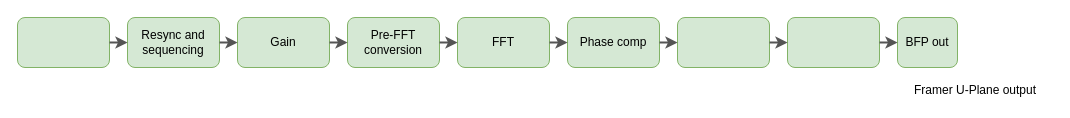
Some shapes in this 1070 by 118 pixel diagram are drawn without their labels. Here are the shapes that lost their labels. From the top down, the centre of each, then its label:
At point (63, 42): "Radio UL".
At point (723, 42): "Ping-pong buffer".
At point (833, 42): "Request readout".
